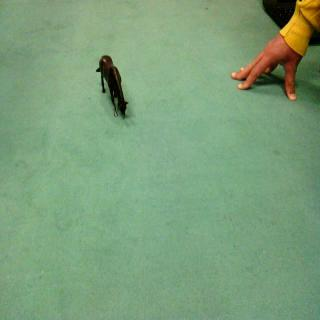horse: (92, 50, 136, 122)
